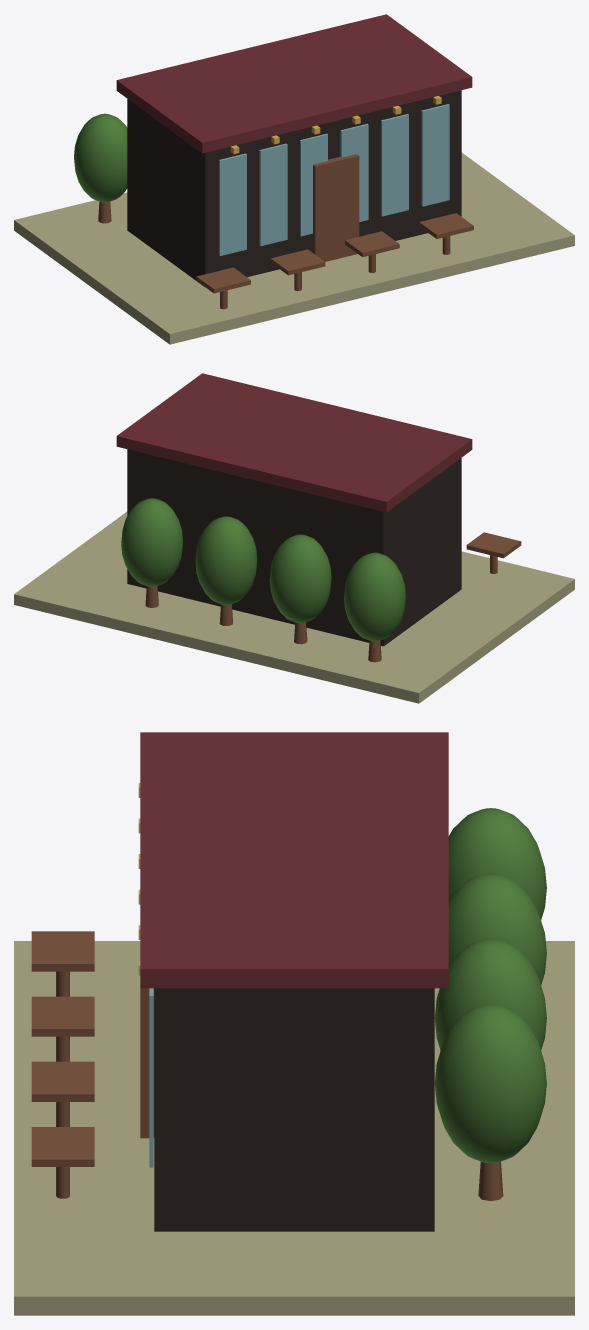
Rendered from building.glb.
The picture shows the model from 3 angles, top to bottom: view 1: azimuth 30°, elevation 25°; view 2: azimuth 150°, elevation 25°; view 3: azimuth 270°, elevation 25°; orthographic projection. The views are drawn at different scales.
Size of the model in its own units: 6 by 2.26 by 4.
